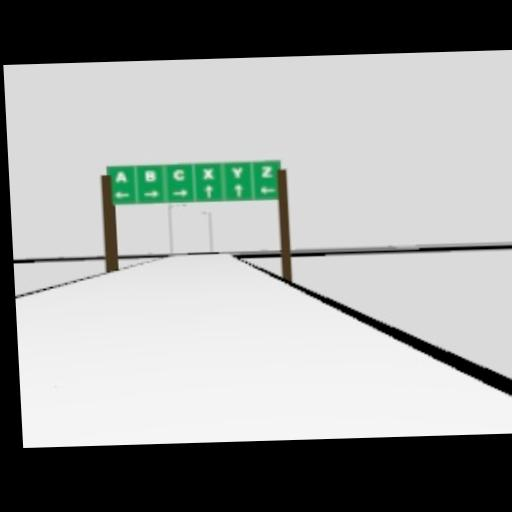A: (114, 169, 127, 181)
C: (171, 167, 186, 179), (143, 168, 156, 180)
Left: (259, 185, 275, 192), (114, 189, 128, 196)
Right: (142, 188, 158, 196), (172, 187, 188, 195)
Straight: (203, 183, 213, 197), (232, 182, 242, 196)
X: (203, 166, 214, 178)
Y: (230, 165, 243, 177)
Z: (260, 164, 273, 177)
